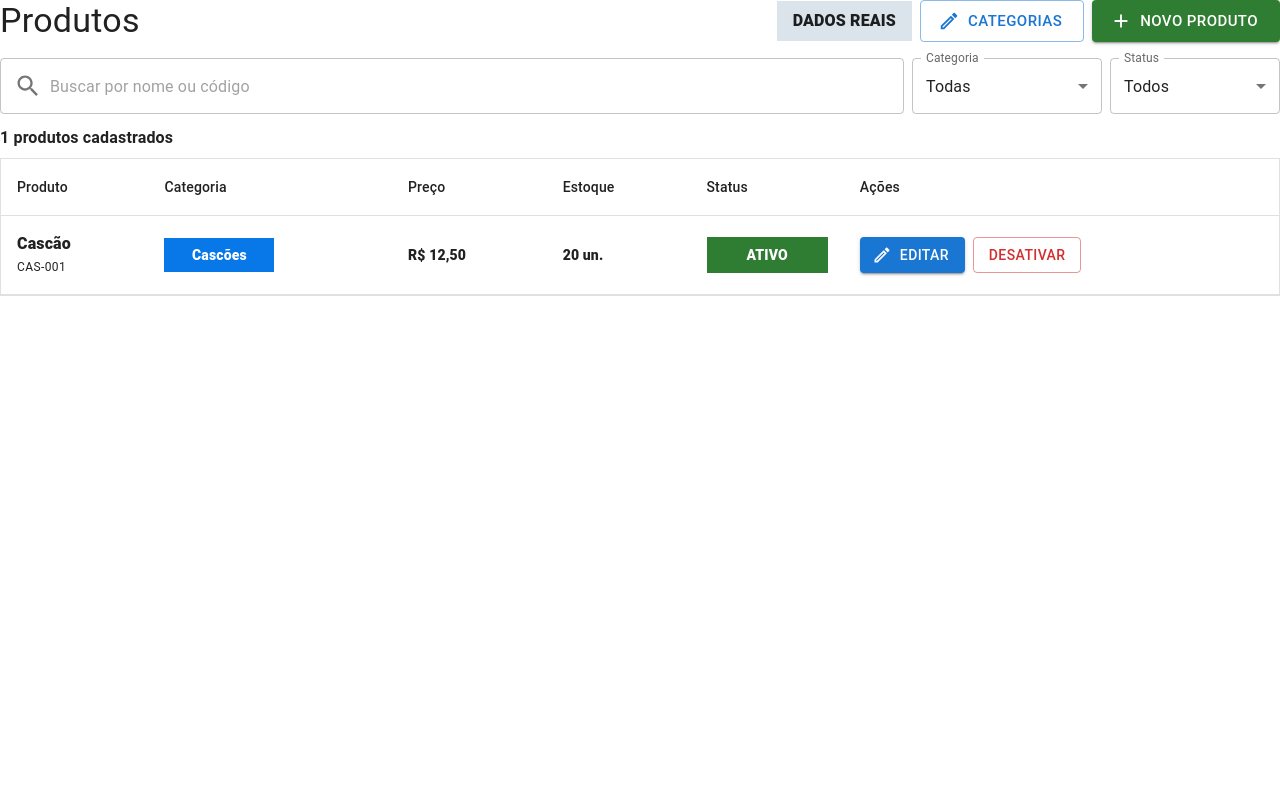
ProductsPage › preenche, valida e envia a edição de um produto existente
Click the button "Editar".
click(912, 255)  # box [860,237,965,274]
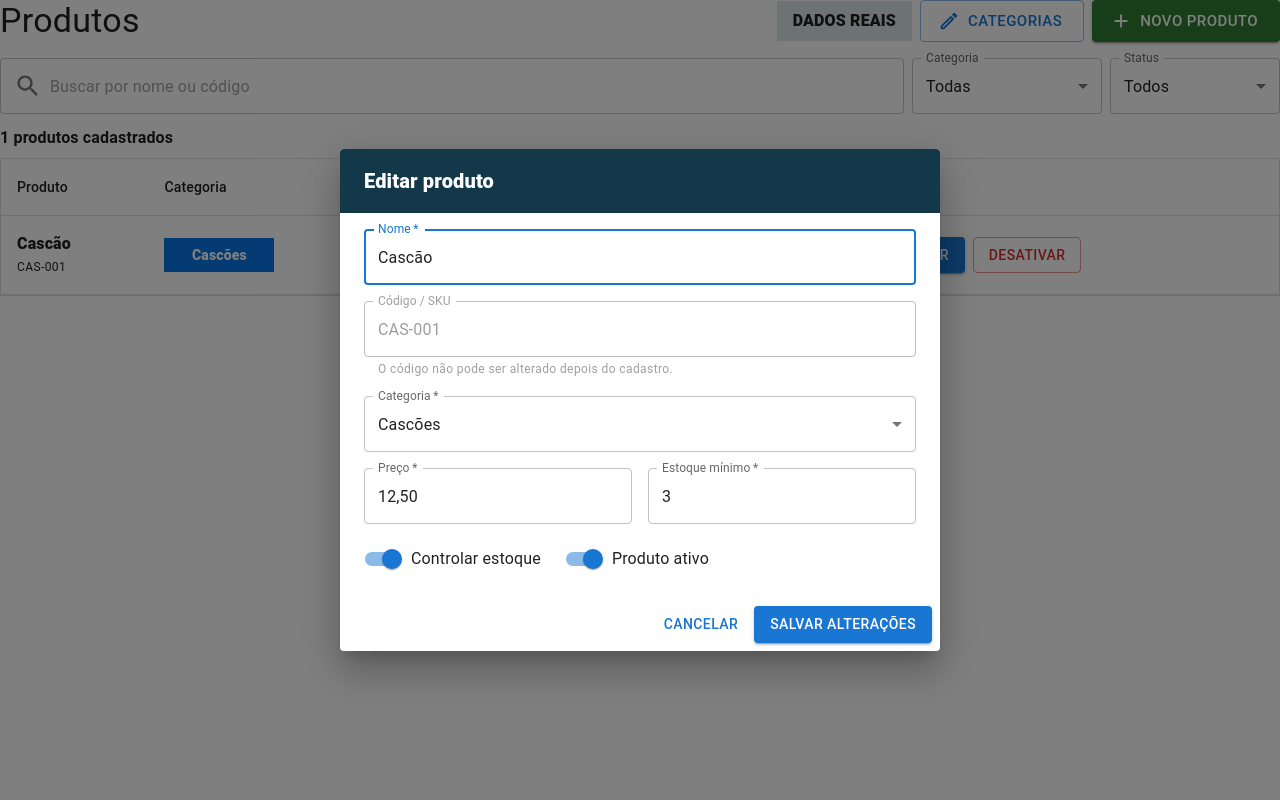
expect the heading "Editar produto" is shown: met, box [340,149,940,213]
expect the field labelled "Código / SKU" is disabled: met, box [364,301,916,357]
Replace the text in the field labelled "Nome *" with "Cascão premium" at [640, 257], box [364,229,916,285]
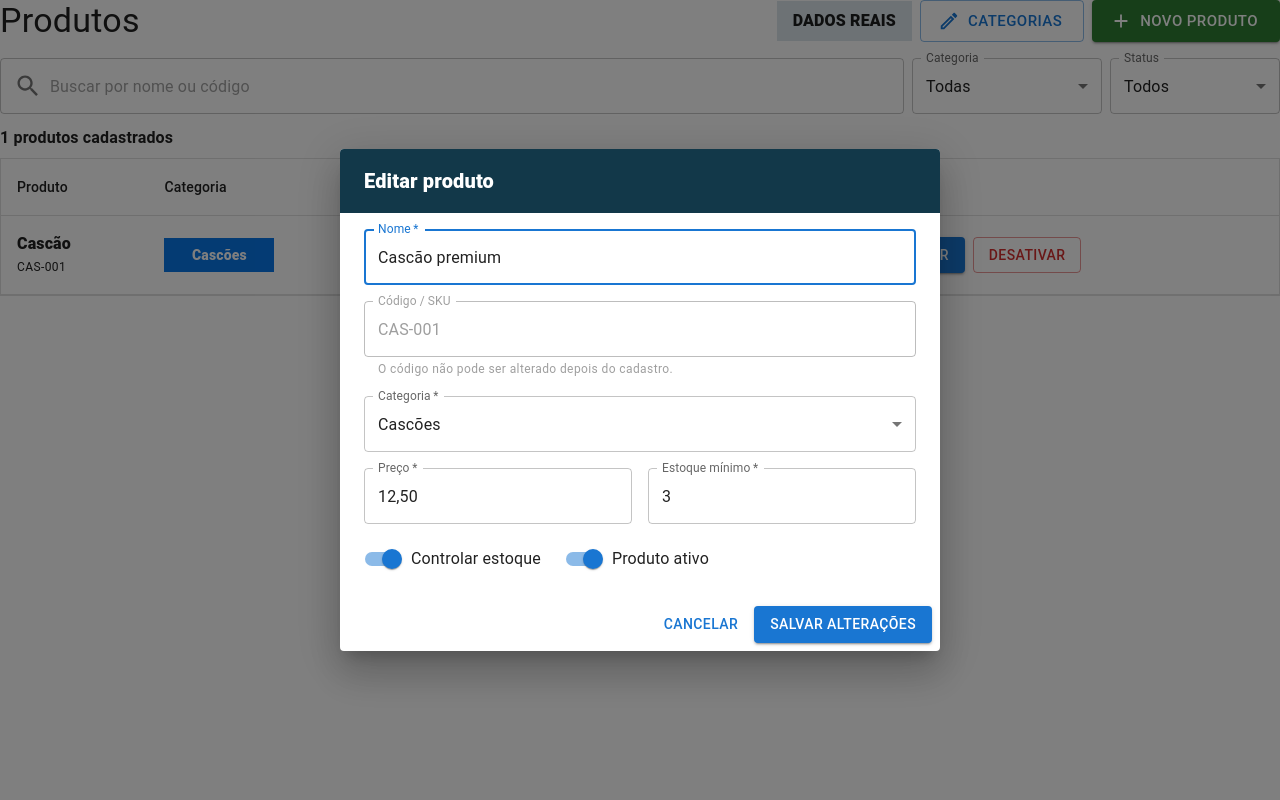
Replace the text in the field labelled "Preço *" with "15,00" at [498, 496], box [364,468,632,524]
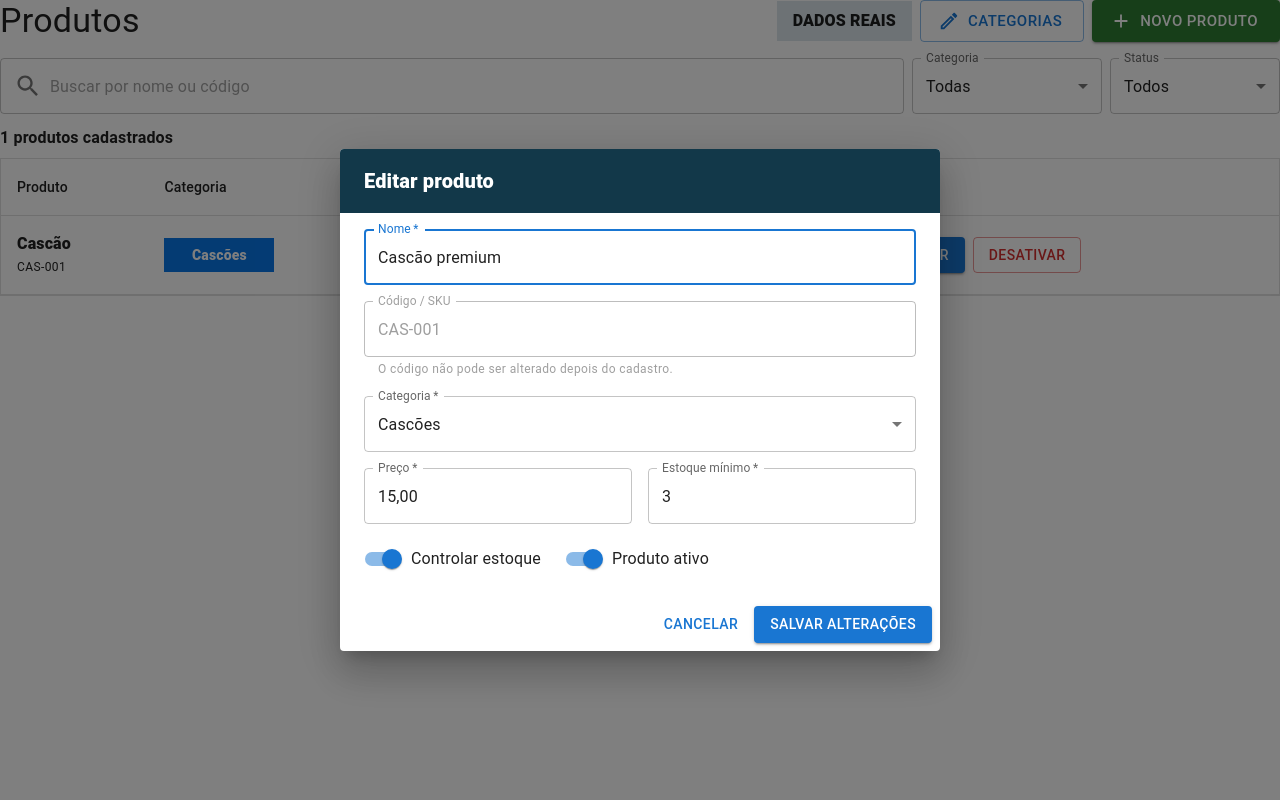
Click the button "Salvar alterações".
click(843, 624)  # box [754,606,932,643]
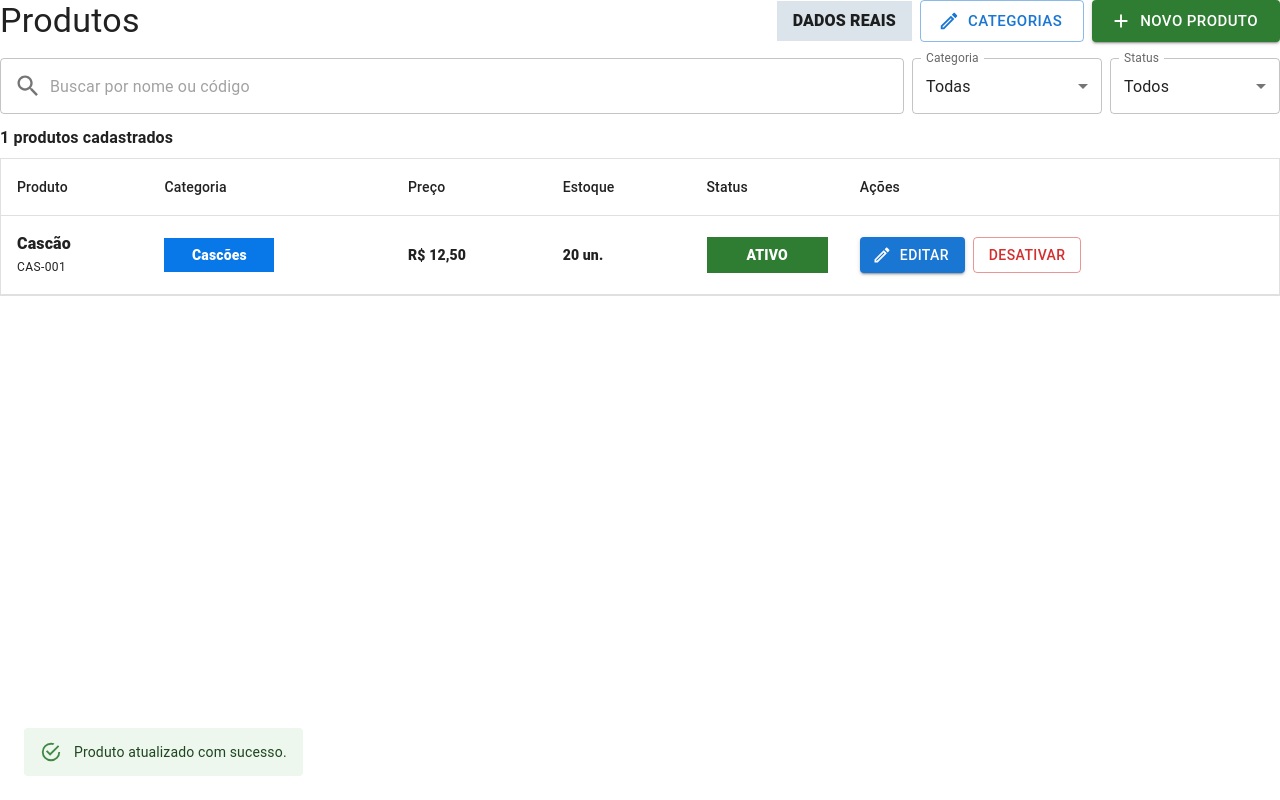
expect the text "Produto atualizado com sucesso." is shown: met, box [74,744,287,760]
